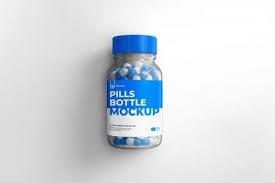jar: (107, 35, 162, 148)
